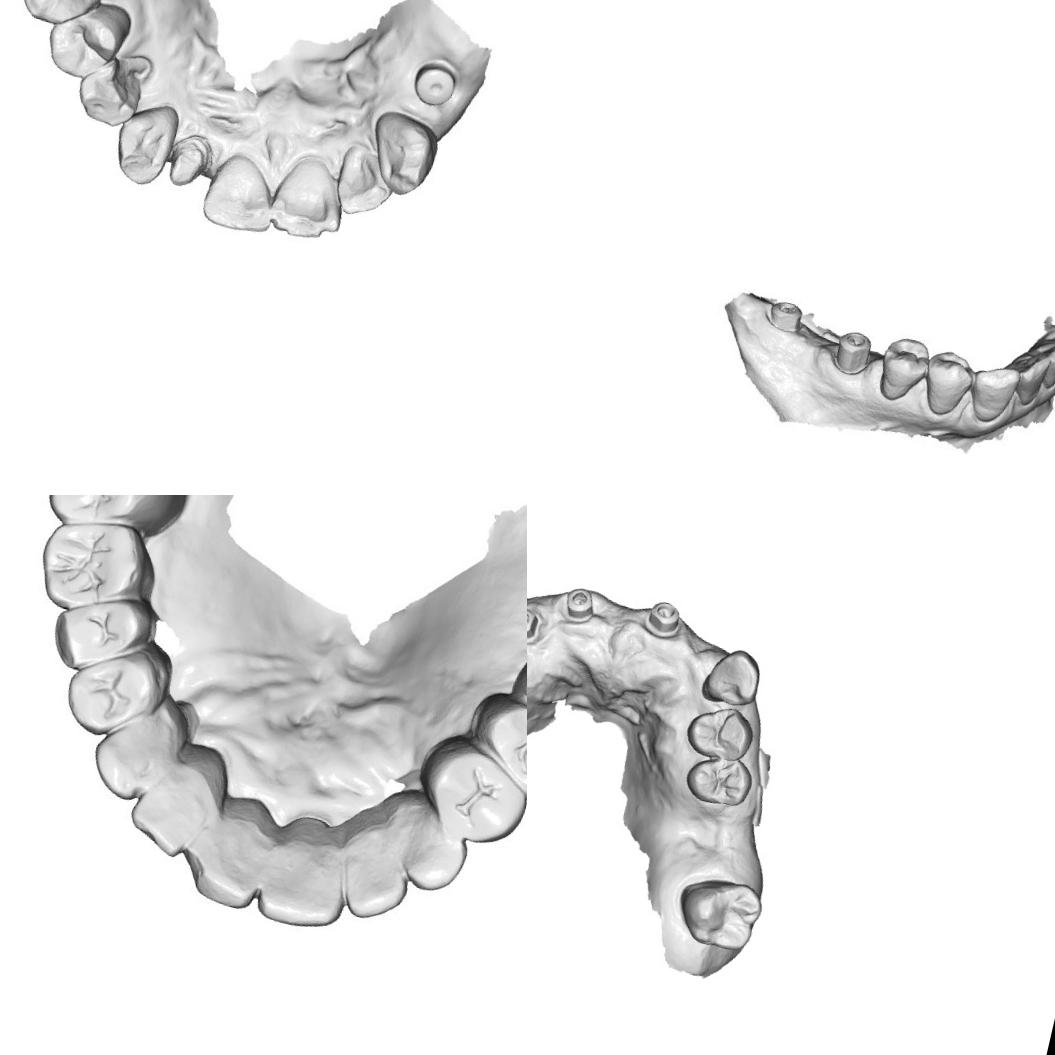canine: (84, 692, 190, 810), (374, 793, 482, 902), (362, 107, 444, 202), (108, 92, 184, 192), (698, 642, 768, 714), (964, 358, 1024, 429)
crown: (164, 128, 218, 196)
implant: (402, 46, 472, 118), (828, 326, 876, 380), (641, 596, 687, 642), (762, 293, 807, 338), (559, 582, 602, 626), (527, 602, 545, 644)
incisor: (248, 809, 356, 941), (126, 727, 232, 861), (182, 773, 282, 910), (320, 814, 421, 925), (266, 148, 350, 246), (196, 152, 282, 243), (334, 142, 394, 219), (1011, 348, 1054, 410), (1032, 332, 1055, 391)
molar: (38, 505, 164, 613), (670, 868, 768, 958), (41, 495, 190, 547)
premolar: (409, 732, 527, 852), (60, 635, 173, 745), (44, 582, 162, 686), (458, 685, 527, 809), (39, 0, 130, 84), (679, 697, 760, 767), (679, 748, 758, 814), (870, 329, 935, 408), (915, 345, 980, 420)
